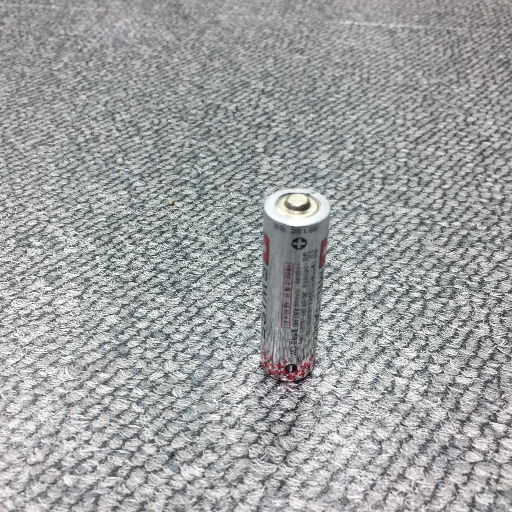Battery_0: (258, 186, 334, 385)
